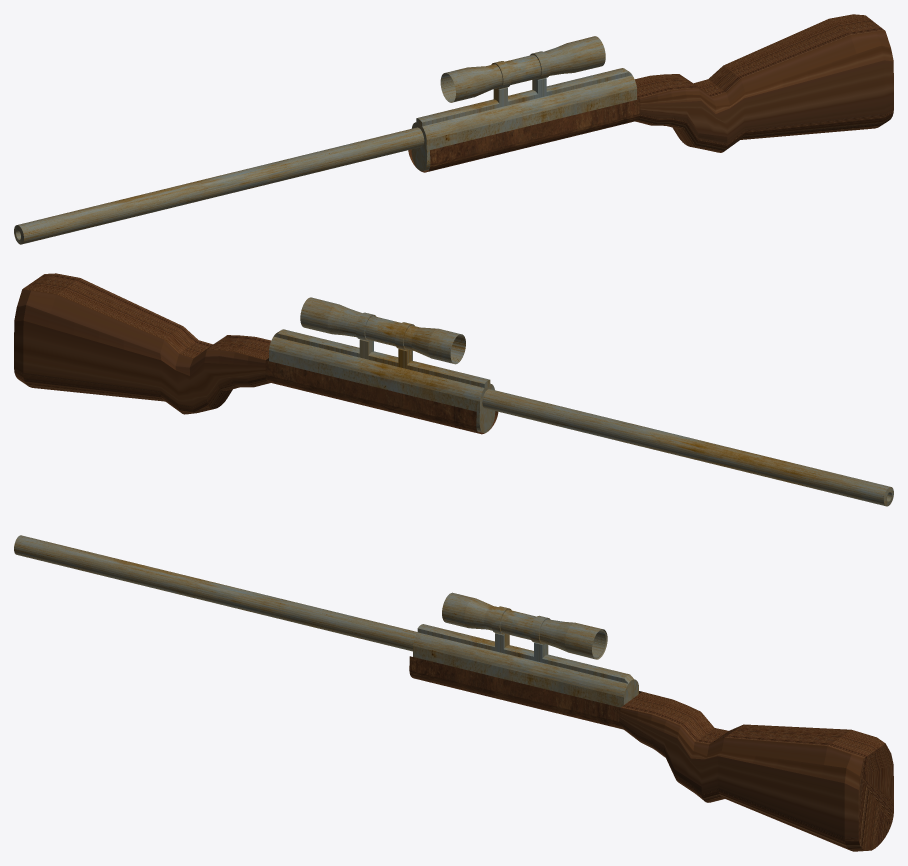
The model's file is sniperR1.glb.
3 views of the same model, one above another, from view 1: azimuth 30°, elevation 25°; view 2: azimuth 150°, elevation 25°; view 3: azimuth 330°, elevation 25° (orthographic).
Parts seen in each view (by area): view 1: Cylinder.002, Cylinder.001, Cylinder, Cylinder.003; view 2: Cylinder.002, Cylinder.001, Cylinder, Cylinder.003; view 3: Cylinder.002, Cylinder.001, Cylinder, Cylinder.003.
Part boxes in pixels (left/top/right/bottom): Cylinder.002: left=408, top=14, right=893, bottom=172; Cylinder.001: left=14, top=127, right=424, bottom=244; Cylinder: left=411, top=68, right=636, bottom=171; Cylinder.003: left=440, top=36, right=605, bottom=102; Cylinder.002: left=14, top=273, right=498, bottom=434; Cylinder.001: left=482, top=389, right=893, bottom=506; Cylinder: left=269, top=329, right=495, bottom=432; Cylinder.003: left=300, top=297, right=465, bottom=364; Cylinder.002: left=409, top=656, right=893, bottom=851; Cylinder.001: left=14, top=535, right=417, bottom=651; Cylinder: left=413, top=624, right=638, bottom=707; Cylinder.003: left=442, top=592, right=607, bottom=659.
Bounding box in the file's own units: 64.31 × 10.87 × 5.22.
4 materials, 4 textured.
